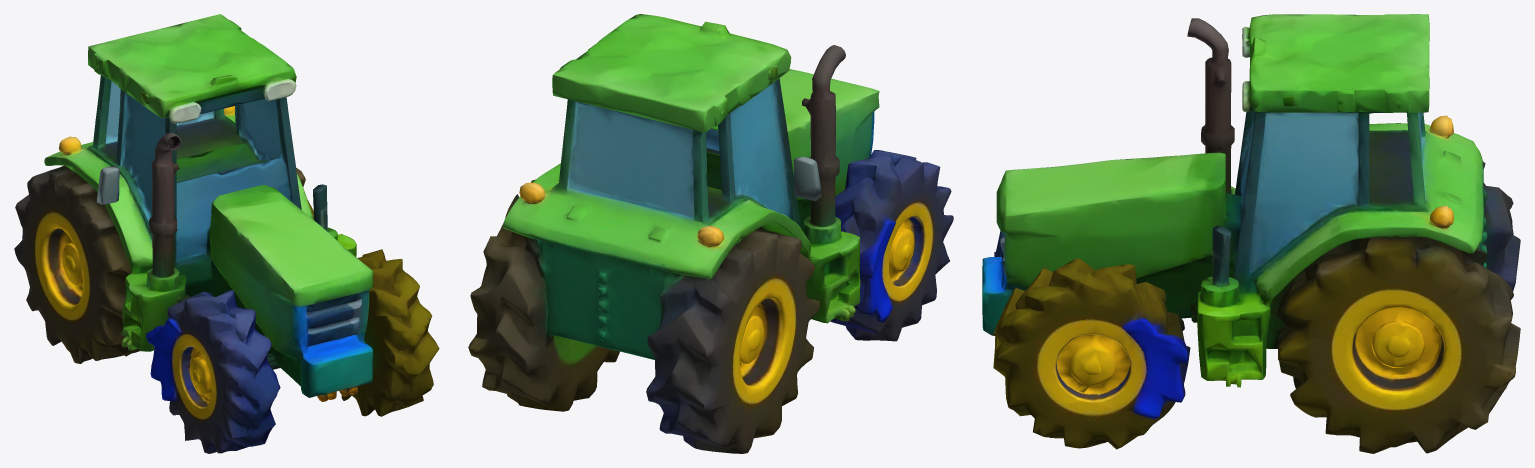
Rendered from trator.glb.
The picture shows the model from 3 angles, left to right: view 1: azimuth 30°, elevation 25°; view 2: azimuth 150°, elevation 25°; view 3: azimuth 270°, elevation 25°; orthographic projection. The views are drawn at different scales.
Visible parts, largest first — view 1: tripo_node_d92f7ac0-7855-43ca-9982-d2e172b93993; view 2: tripo_node_d92f7ac0-7855-43ca-9982-d2e172b93993; view 3: tripo_node_d92f7ac0-7855-43ca-9982-d2e172b93993.
Part boxes in pixels (x1,y1,x2,y2): tripo_node_d92f7ac0-7855-43ca-9982-d2e172b93993: (14,14,439,453); tripo_node_d92f7ac0-7855-43ca-9982-d2e172b93993: (468,14,953,453); tripo_node_d92f7ac0-7855-43ca-9982-d2e172b93993: (982,14,1520,453).
Size of the model in its own units: 0.5664 by 0.7263 by 1.
1 material, 1 textured.
